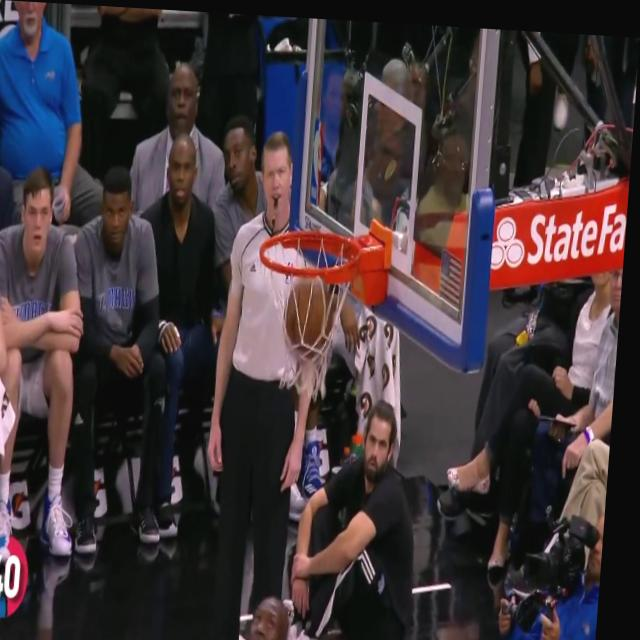basketball: (282, 269, 338, 364)
hoop: (246, 221, 364, 406), (247, 218, 360, 402)
